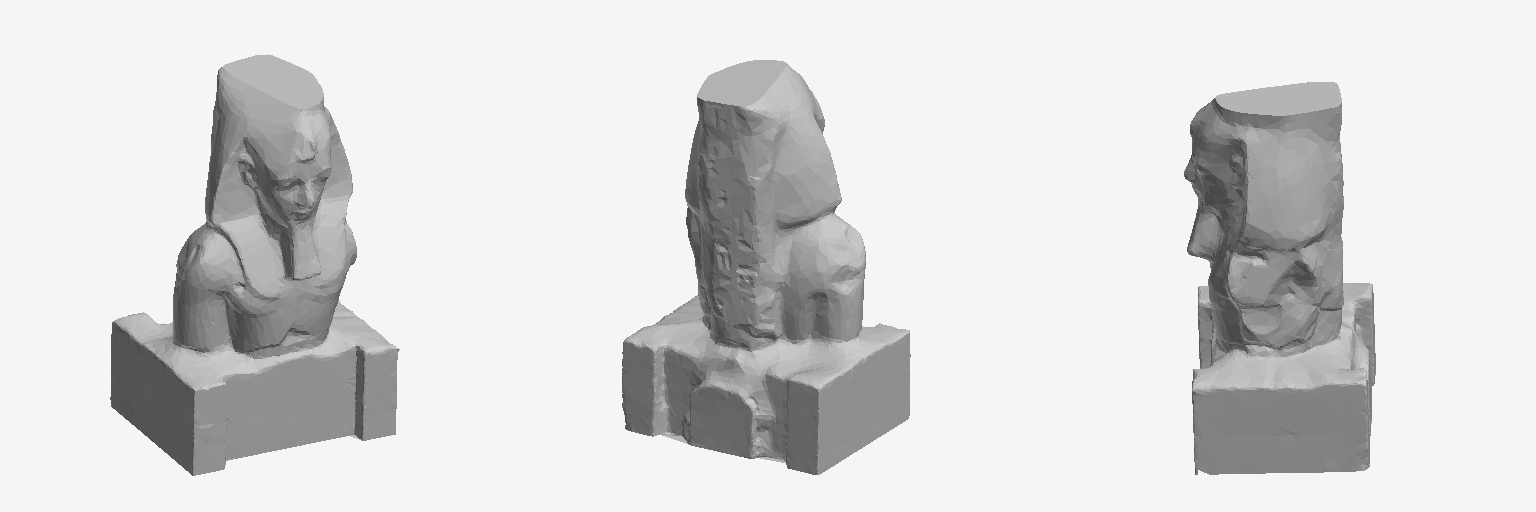
Rendered from sculpt.obj.
The picture shows the model from 3 angles: view 1: azimuth 30°, elevation 25°; view 2: azimuth 150°, elevation 25°; view 3: azimuth 270°, elevation 25°; orthographic projection.
Size of the model in its own units: 18.19 by 29 by 14.75.